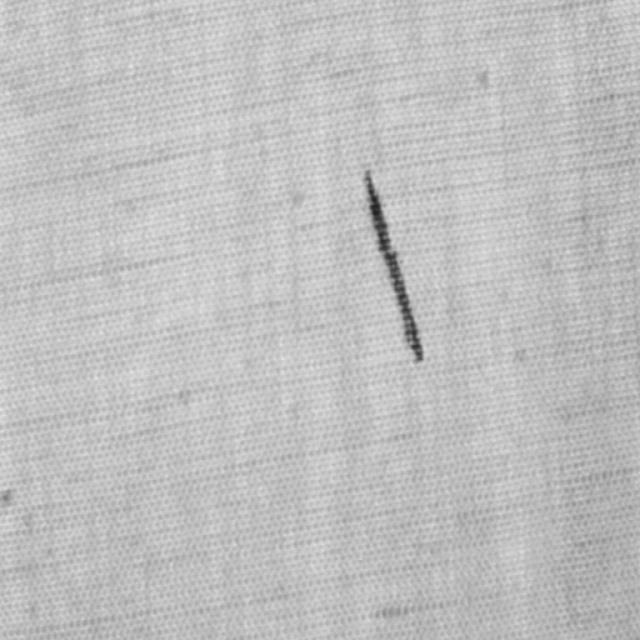oil spot: (362, 164, 424, 366)
